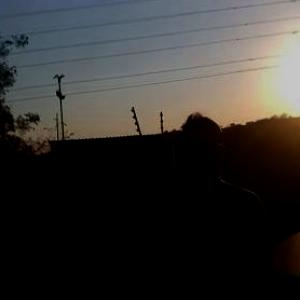follow: (149, 108, 275, 299)
